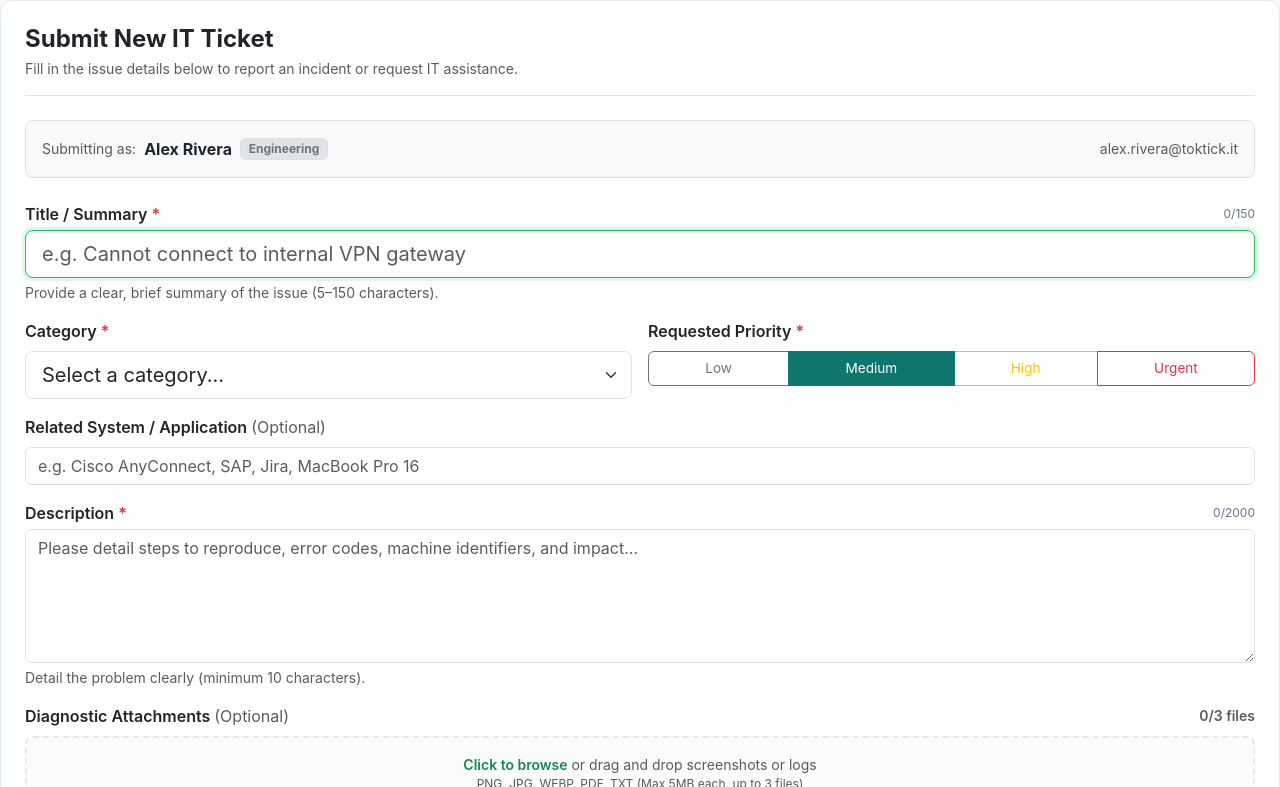
Lab 2 — CreateTicketScreen Component › validates character length constraints for title (<5 chars) and description (<10 chars)
Expected: the dropdown with test id "ticket-category-select" is shown, [25, 351, 632, 399]
Type "VPN" into the field with test id "ticket-title-input".
click(640, 254); type("VPN")  # box [25, 230, 1255, 278]
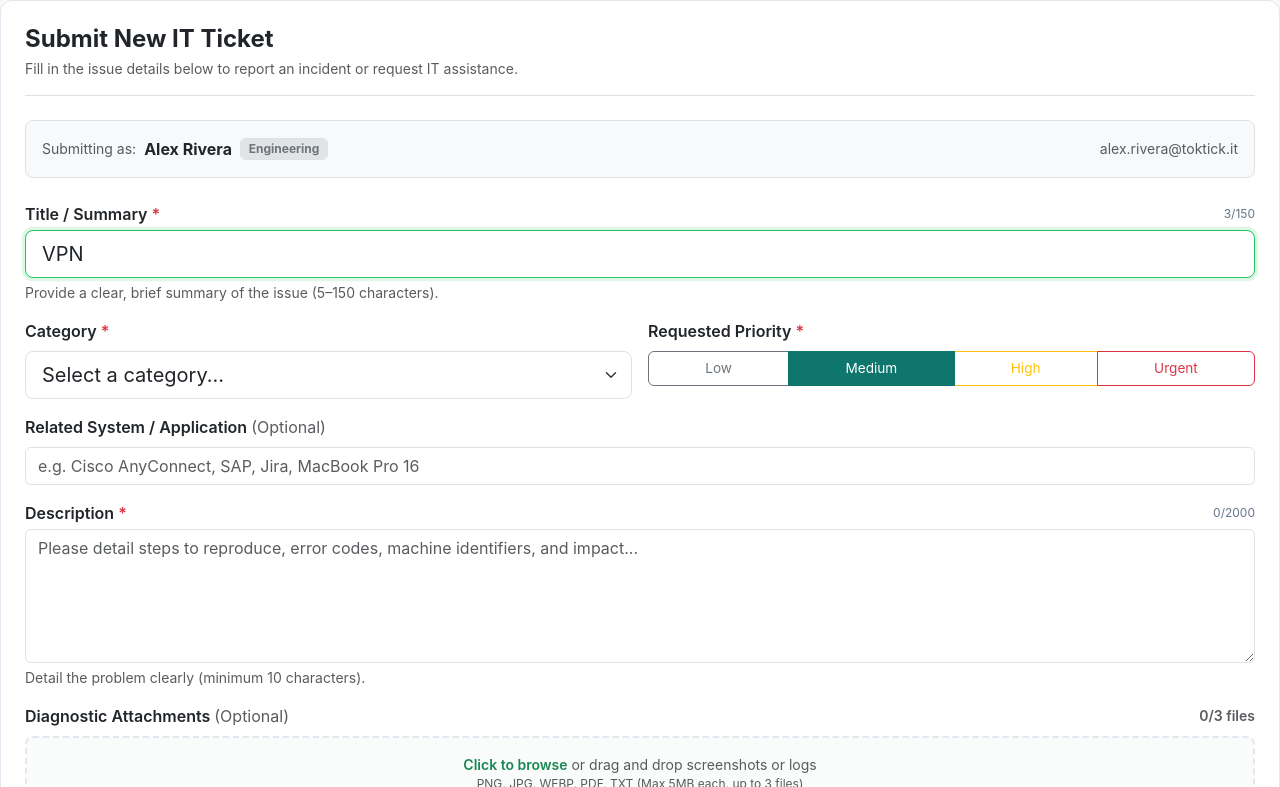
Type "Too short" into the text box with test id "ticket-description-input".
click(640, 596); type("Too short")  # box [25, 529, 1255, 663]
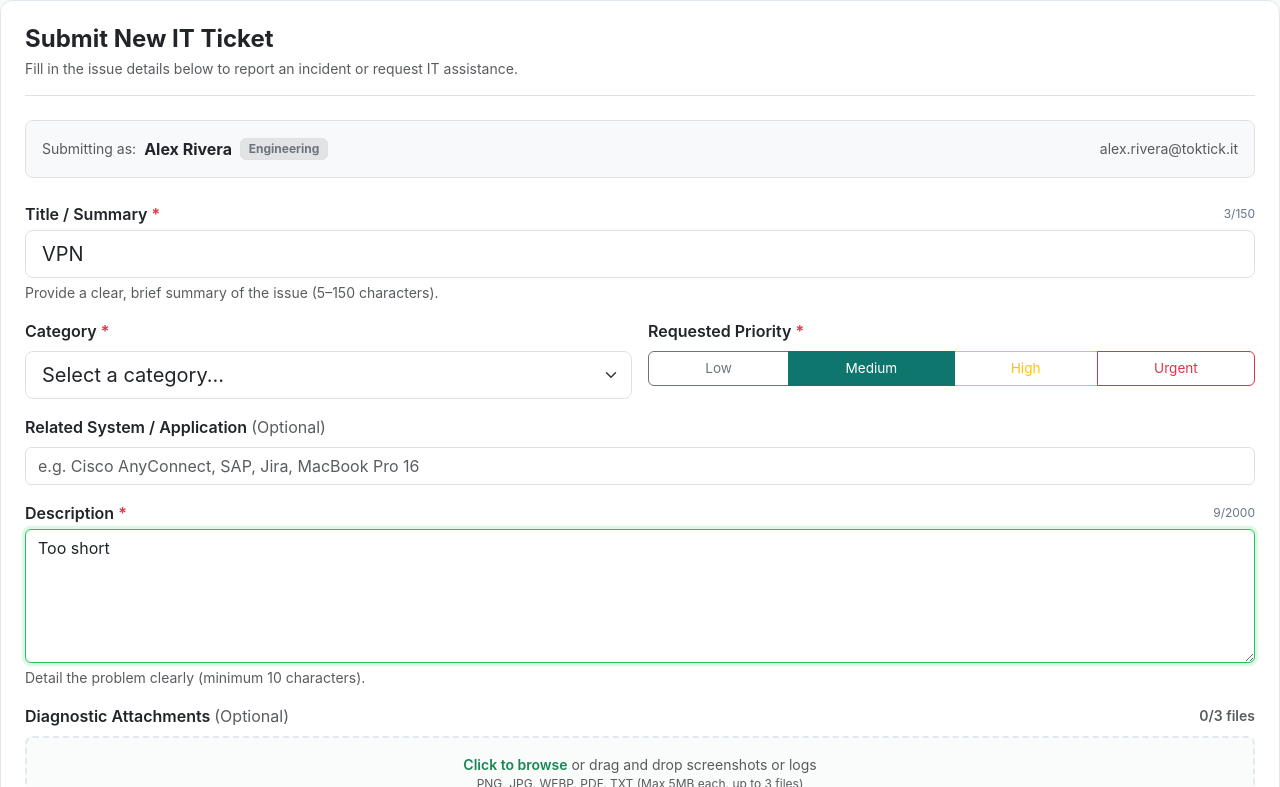
Select "Network" in the dropdown with test id "ticket-category-select" at (328, 375), box [25, 351, 632, 399]
(page scrolled)
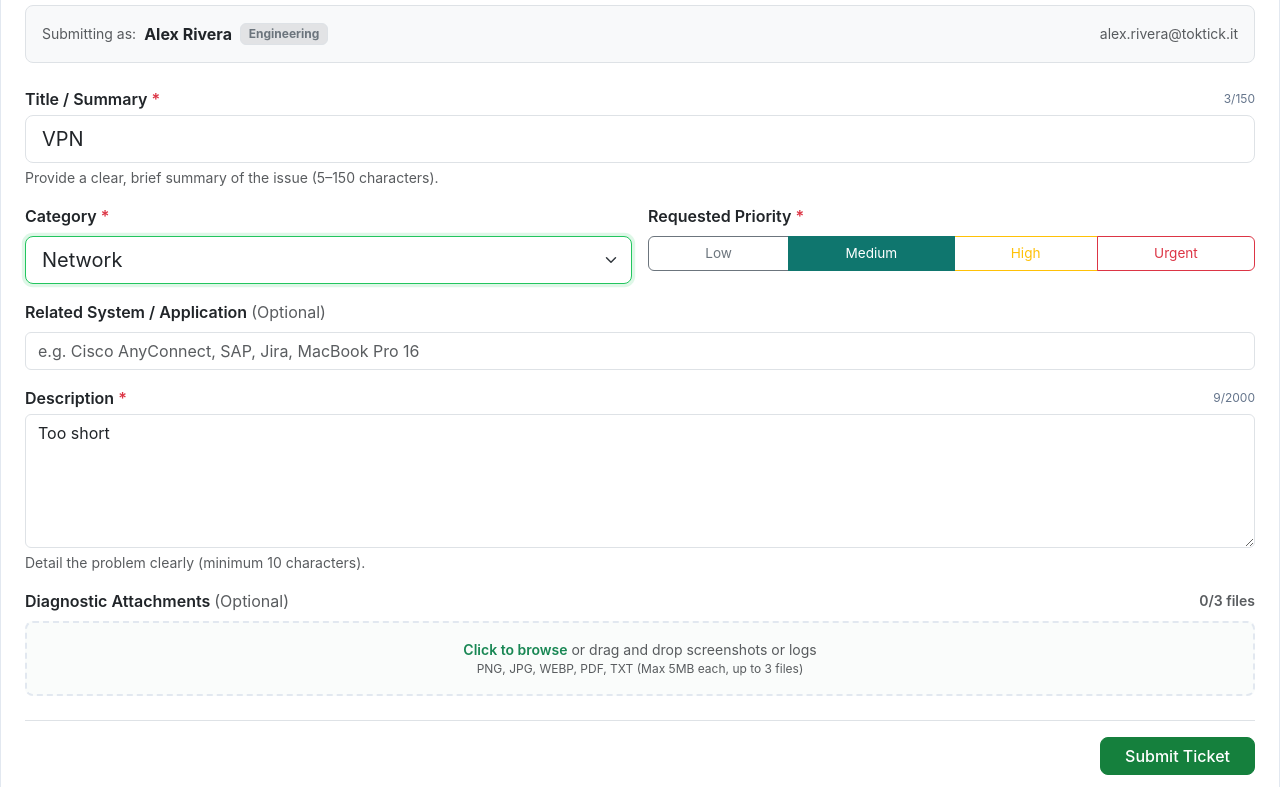
Click the button with test id "submit-ticket-btn".
click(1178, 756)  # box [1100, 737, 1255, 775]
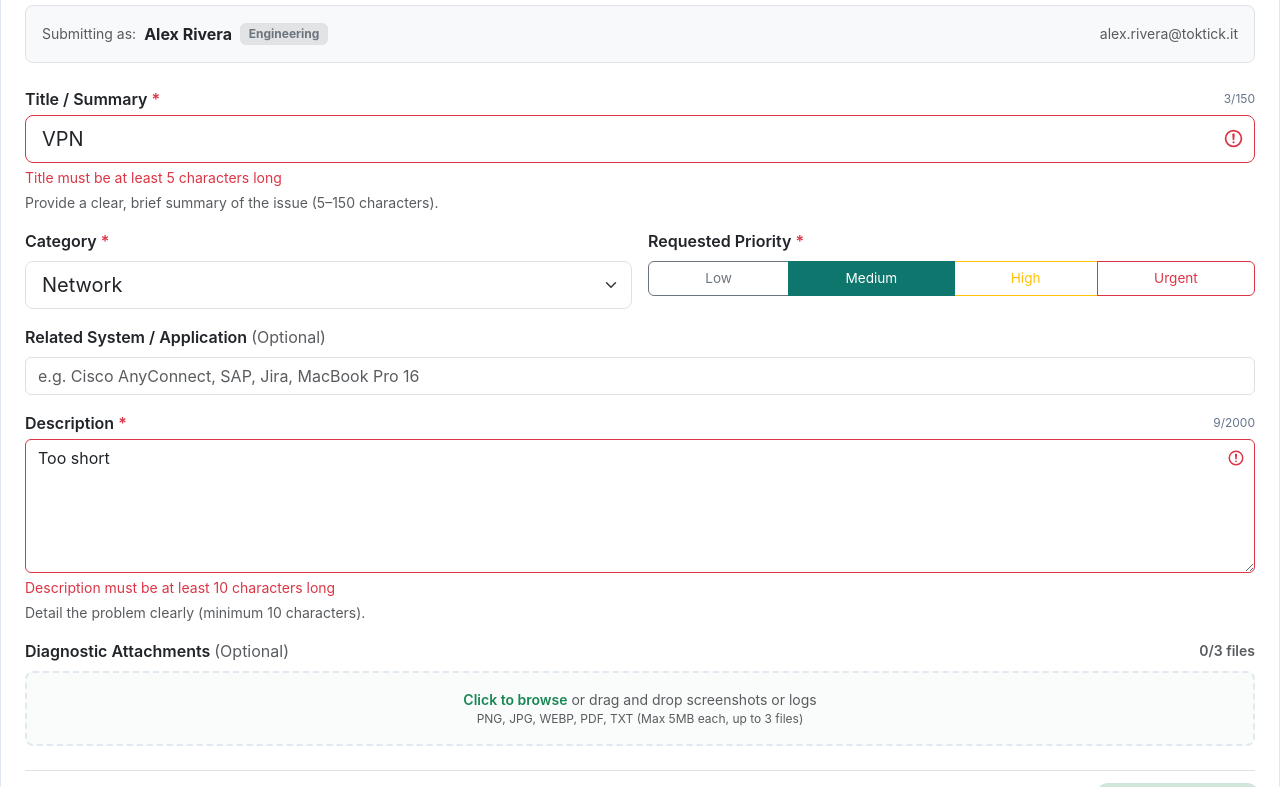
Expected: the text with test id "title-error" shows "at least 5 characters", [25, 169, 282, 186]
Expected: the text with test id "description-error" shows "at least 10 characters", [25, 579, 335, 596]
